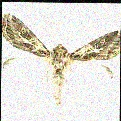Spodoptera litura: (1, 12, 120, 107)
